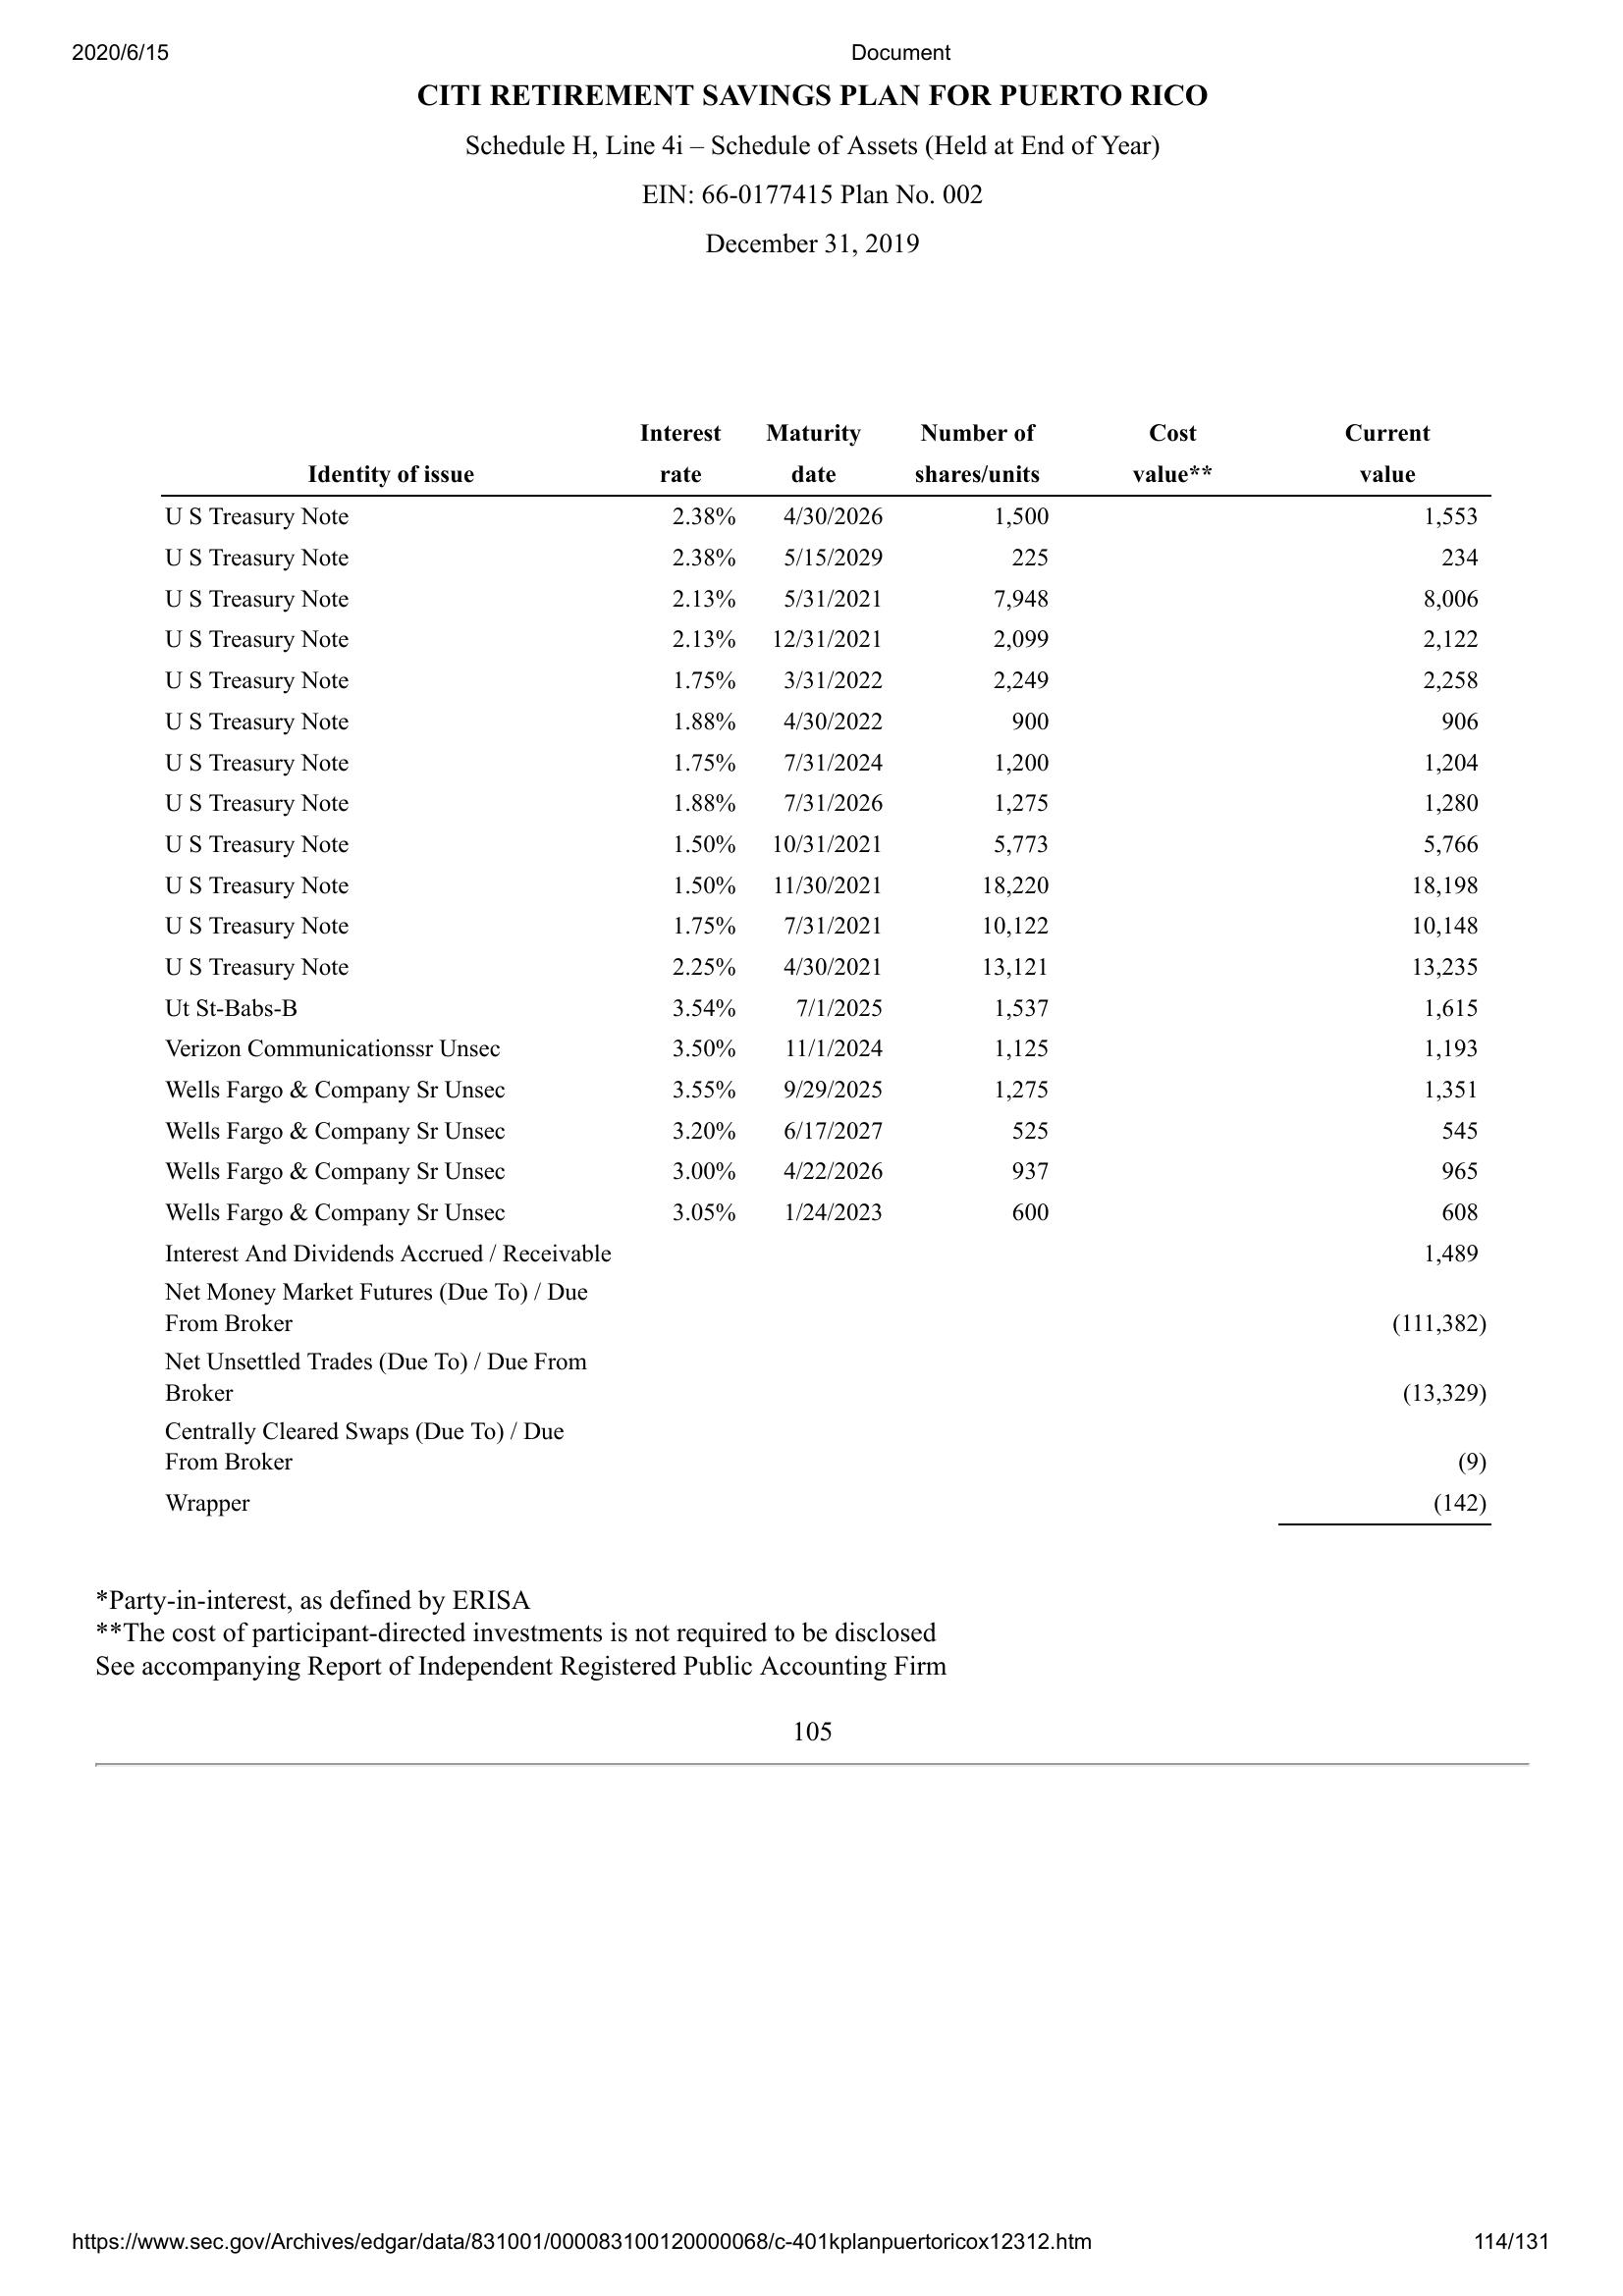table: (153, 413, 1504, 1534)
